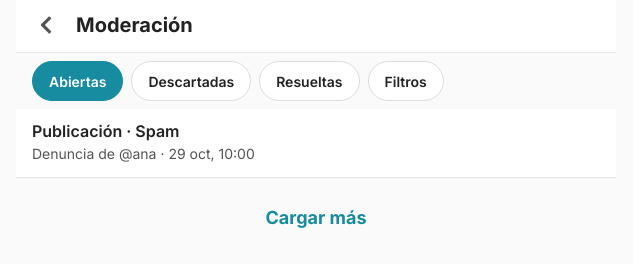
Test: Admin queue › loads the next page with the cursor
The width and height of the screenshot is (633, 264).
Click the button "Cargar más". click: (316,218)
box: [248,190,384,245]
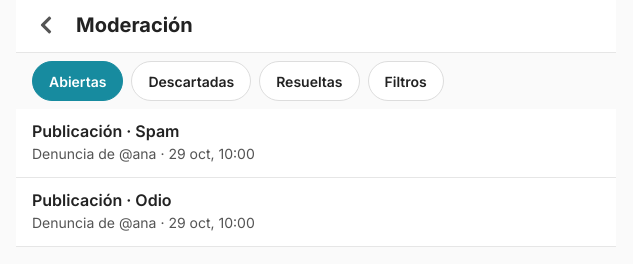
Expected: the text "Publicación · Spam" is shown, [32,121,180,141]
Now the text "Publicación · Odio" is shown, box [32,190,172,210]
